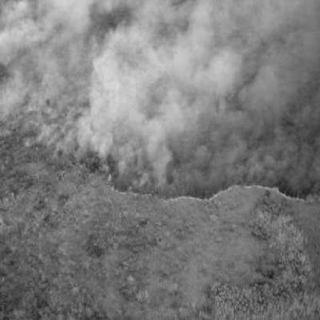Smoke: (93, 43, 151, 123), (1, 15, 40, 58)
